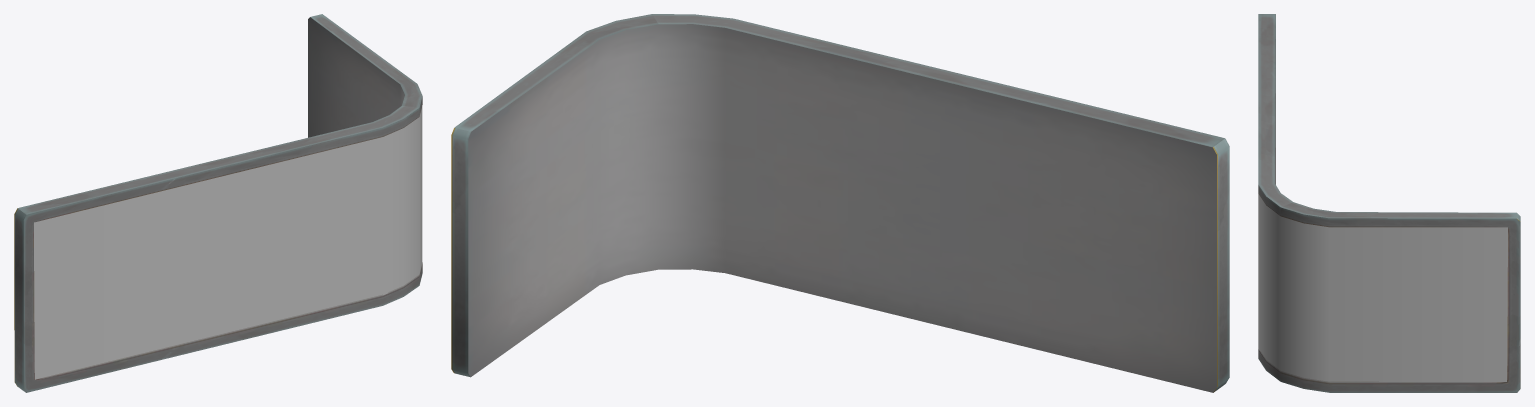
The model's file is pref_sm_city_bornbillboard03_snow_lv3.fbx.
3 renders of one model, left to right at view 1: azimuth 30°, elevation 25°; view 2: azimuth 150°, elevation 25°; view 3: azimuth 270°, elevation 25°, orthographic. The views are drawn at different scales.
Visible parts, largest first — view 1: sm_city_bornbillboard03_snow_lv3, sm_city_bornbillboard03b_snow_lv3; view 2: sm_city_bornbillboard03b_snow_lv3; view 3: sm_city_bornbillboard03_snow_lv3, sm_city_bornbillboard03b_snow_lv3.
Boxes of the visible parts, <box> form: sm_city_bornbillboard03_snow_lv3: <box>34,106,422,379</box>; sm_city_bornbillboard03b_snow_lv3: <box>14,14,422,392</box>; sm_city_bornbillboard03b_snow_lv3: <box>451,14,1229,392</box>; sm_city_bornbillboard03_snow_lv3: <box>1258,194,1507,381</box>; sm_city_bornbillboard03b_snow_lv3: <box>1258,14,1520,392</box>.
Size of the model in its own units: 13.63 by 5.39 by 7.34.
